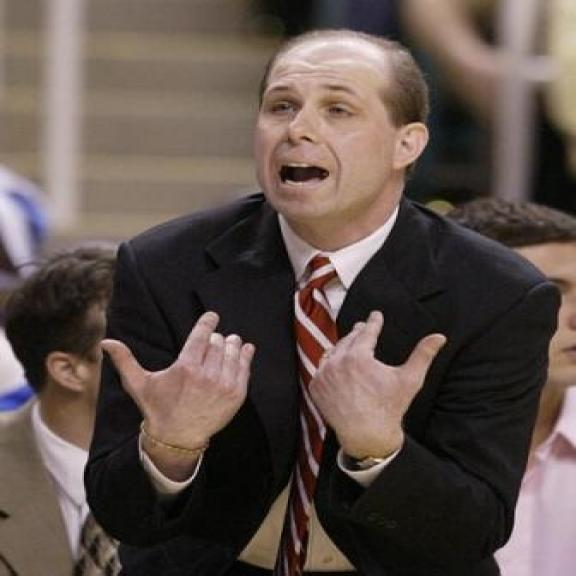face: (253, 54, 430, 231)
